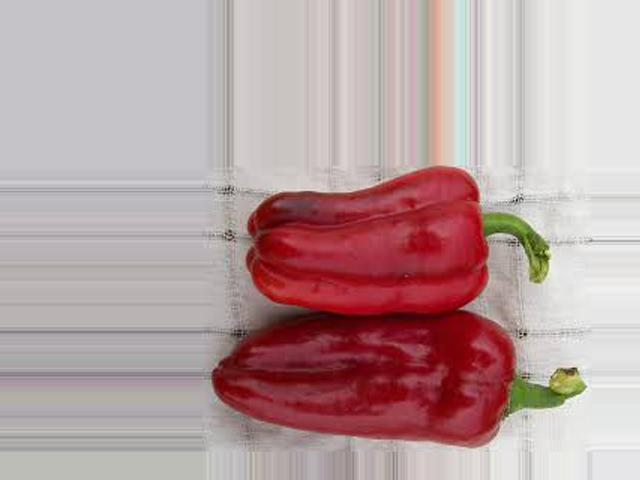bell_pepper: (210, 306, 594, 444)
